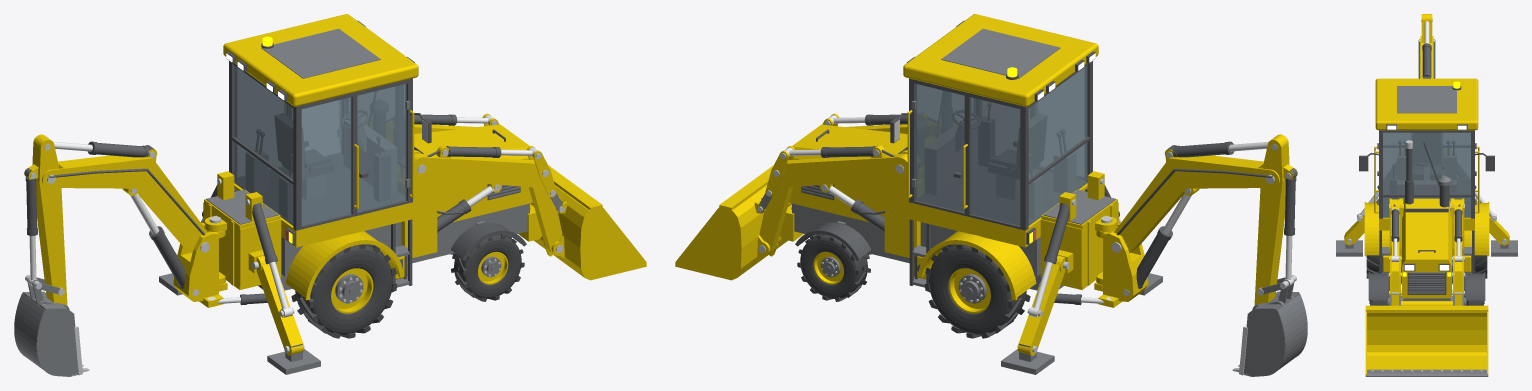
The model's file is Backhoe_Loader.glb.
3 views of the same model, side by side, from view 1: azimuth 30°, elevation 25°; view 2: azimuth 150°, elevation 25°; view 3: azimuth 270°, elevation 25° (orthographic). The views are drawn at different scales.
Visible parts, largest first — view 1: cab_glass, cab_roof, loader_bucket, boom, cab_frame, rear_tyre_R, hood, lift_arm_2, backhoe_bucket, dipper, roof_cap, cab_floor_mat (+24 smaller); view 2: cab_glass, cab_roof, loader_bucket, boom, cab_frame, rear_tyre_L, hood, lift_arm, backhoe_bucket, dipper, roof_cap, cab_floor_mat (+24 smaller); view 3: loader_bucket, cab_glass, cab_roof, hood, roof_cap, cab_frame, seat, cutting_edge, rear_fender, rear_fender_2, dash, grille_bars (+29 smaller).
Boxes of the visible parts, box(x1,y1,x2,y2) form: cab_glass: box(234, 65, 406, 225); cab_roof: box(223, 14, 418, 106); loader_bucket: box(534, 165, 646, 280); boom: box(42, 149, 207, 253); cab_frame: box(229, 61, 412, 230); rear_tyre_R: box(291, 244, 397, 338); hood: box(414, 124, 532, 221); lift_arm_2: box(414, 145, 562, 254); backhoe_bucket: box(14, 291, 78, 376); dipper: box(24, 134, 67, 305); roof_cap: box(261, 28, 380, 78); cab_floor_mat: box(234, 155, 404, 225); cab_glass: box(915, 65, 1087, 225); cab_roof: box(903, 14, 1098, 106); loader_bucket: box(675, 165, 787, 280); boom: box(1114, 149, 1279, 253); cab_frame: box(909, 61, 1092, 230); rear_tyre_L: box(924, 244, 1030, 338); hood: box(789, 124, 907, 221); lift_arm: box(759, 145, 907, 254); backhoe_bucket: box(1243, 291, 1307, 376); dipper: box(1254, 134, 1297, 305); roof_cap: box(941, 28, 1060, 78); cab_floor_mat: box(917, 165, 1087, 225); loader_bucket: box(1365, 305, 1488, 375); cab_glass: box(1383, 132, 1470, 217); cab_roof: box(1375, 78, 1478, 130); hood: box(1402, 198, 1451, 298); roof_cap: box(1397, 86, 1456, 113); cab_frame: box(1379, 130, 1474, 218); seat: box(1412, 133, 1444, 179); cutting_edge: box(1365, 369, 1488, 376); rear_fender: box(1464, 202, 1489, 256); rear_fender_2: box(1364, 202, 1389, 256); dash: box(1397, 166, 1456, 201); grille_bars: box(1408, 272, 1445, 293).
Bounding box in the file's own units: 8.92 × 3.81 × 3.4.
